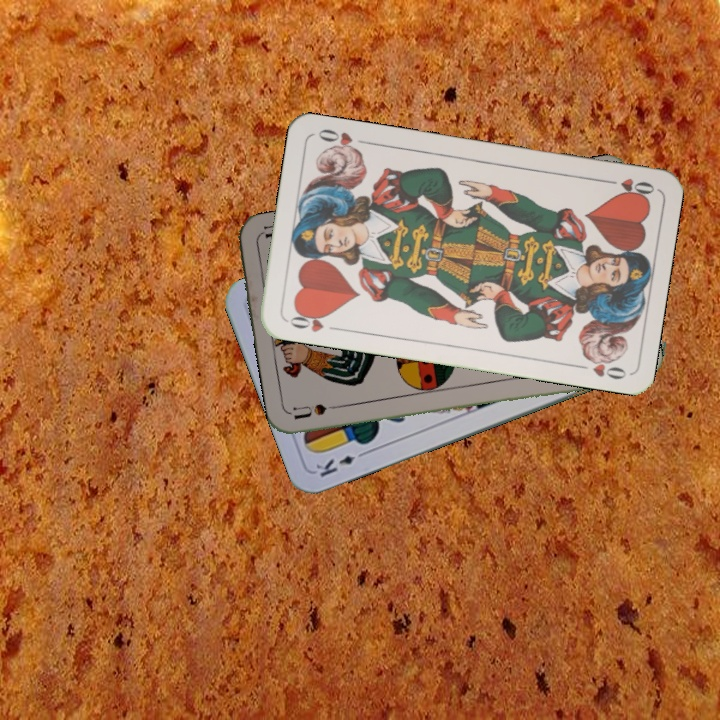EK: (311, 447, 370, 480)
HO: (283, 306, 342, 335), (598, 174, 657, 201)
SU: (290, 399, 350, 422)
